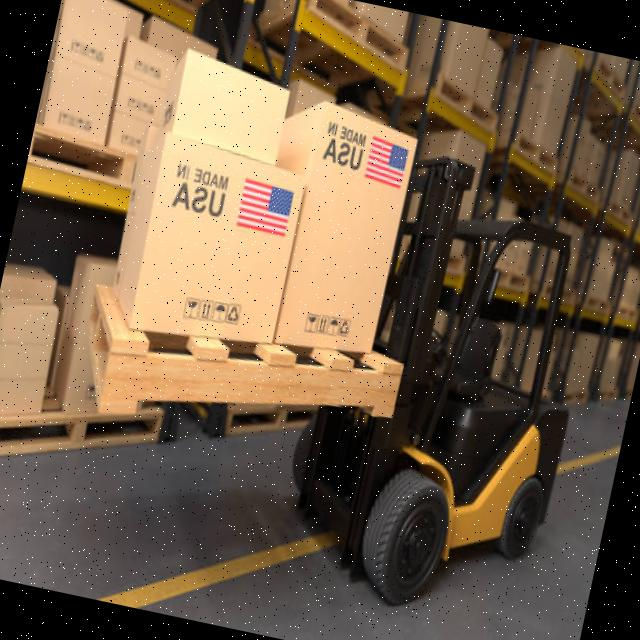Wooden-Pallets: (84, 281, 399, 425), (0, 403, 171, 460), (306, 0, 414, 85), (437, 75, 502, 134), (509, 123, 565, 179)
